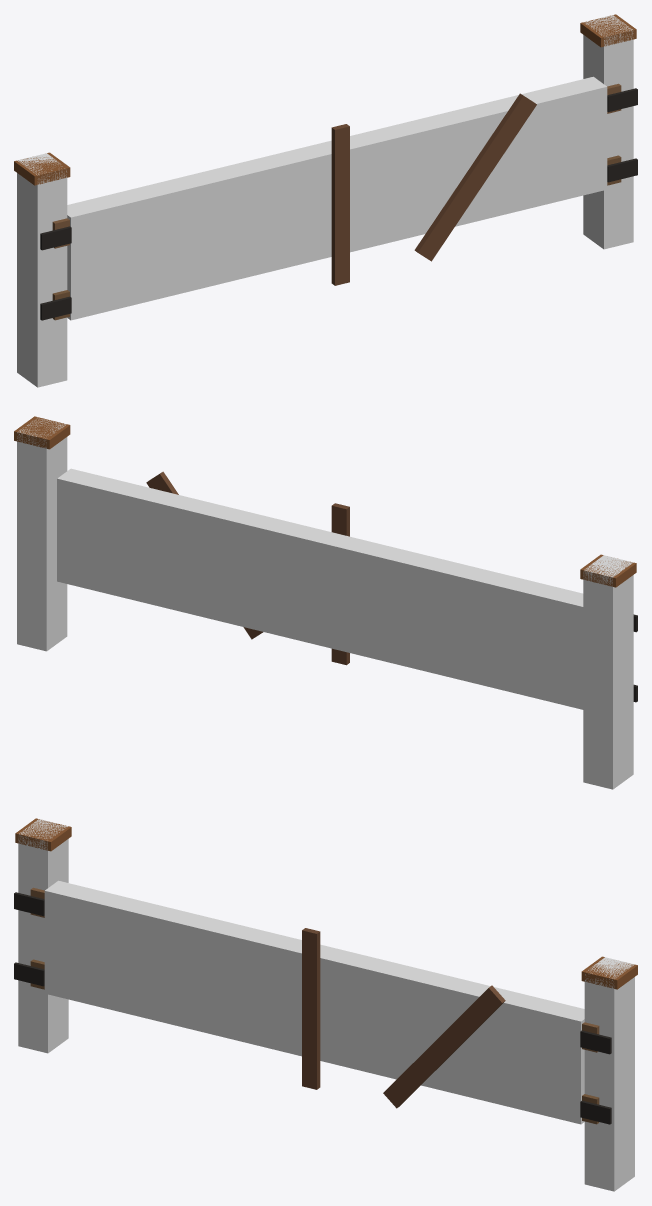
Rendered from camp_fence.glb.
3 views of the same model, one above another, from view 1: azimuth 30°, elevation 25°; view 2: azimuth 150°, elevation 25°; view 3: azimuth 330°, elevation 25° (orthographic).
Visible parts, largest first — view 1: camp_fence-col-col, Body; view 2: camp_fence-col-col, Body; view 3: camp_fence-col-col, Body.
Part boxes in pixels (x1,y1,x2,y2): camp_fence-col-col: (17,15,633,387); Body: (14,14,637,320); camp_fence-col-col: (17,417,633,789); Body: (14,416,637,702); camp_fence-col-col: (18,819,634,1191); Body: (14,818,637,1124).
Size of the model in its own units: 4.04 by 1.36 by 0.33.
